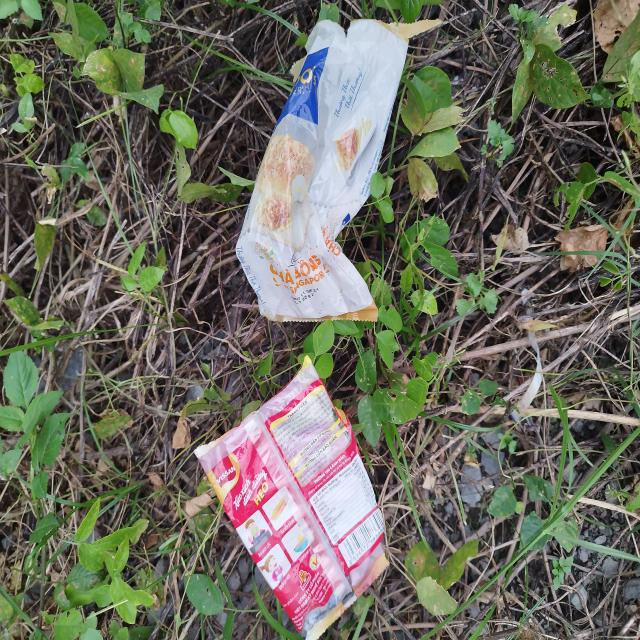packet: (235, 18, 443, 323)
snack package: (193, 355, 390, 640)
